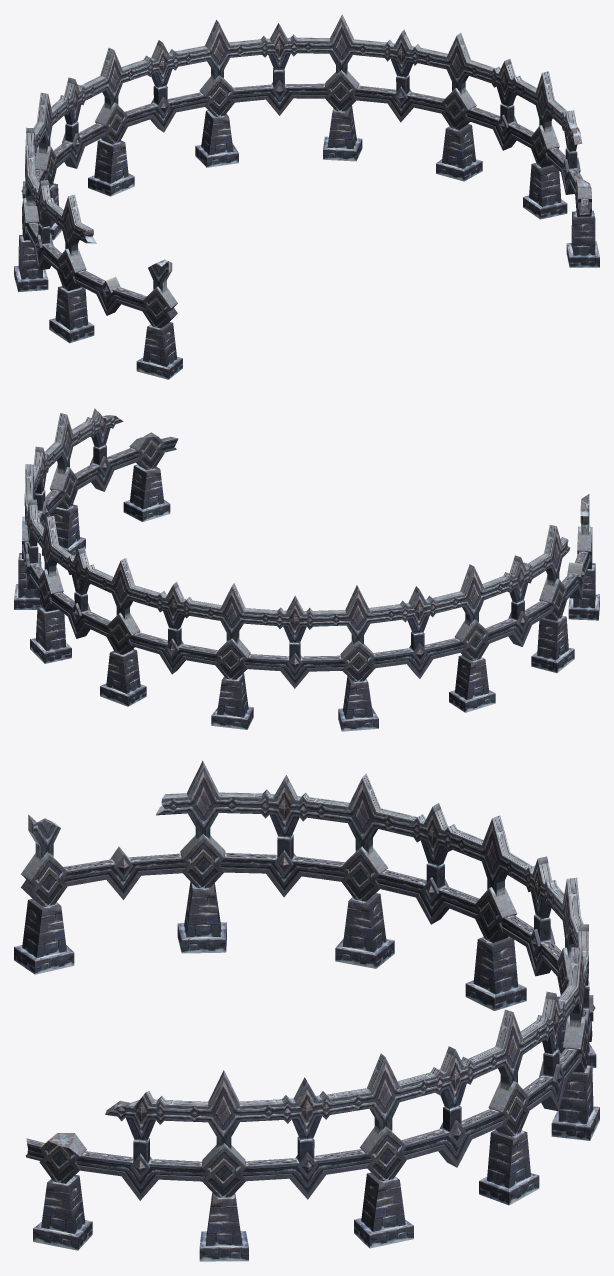
Rendered from yw_anxizhidi_shiqiang01.FBX.
3 views of the same model, one above another, from view 1: azimuth 30°, elevation 25°; view 2: azimuth 150°, elevation 25°; view 3: azimuth 270°, elevation 25° (orthographic). The views are drawn at different scales.
Parts seen in each view (by area): view 1: yw_anxizhidi_shiqiang01; view 2: yw_anxizhidi_shiqiang01; view 3: yw_anxizhidi_shiqiang01.
Part boxes in pixels (x1,y1,x2,y2): yw_anxizhidi_shiqiang01: (14,14,599,379); yw_anxizhidi_shiqiang01: (14,408,599,731); yw_anxizhidi_shiqiang01: (14,760,599,1261).
Bounding box in the file's own units: 3075 × 799 × 2337.
